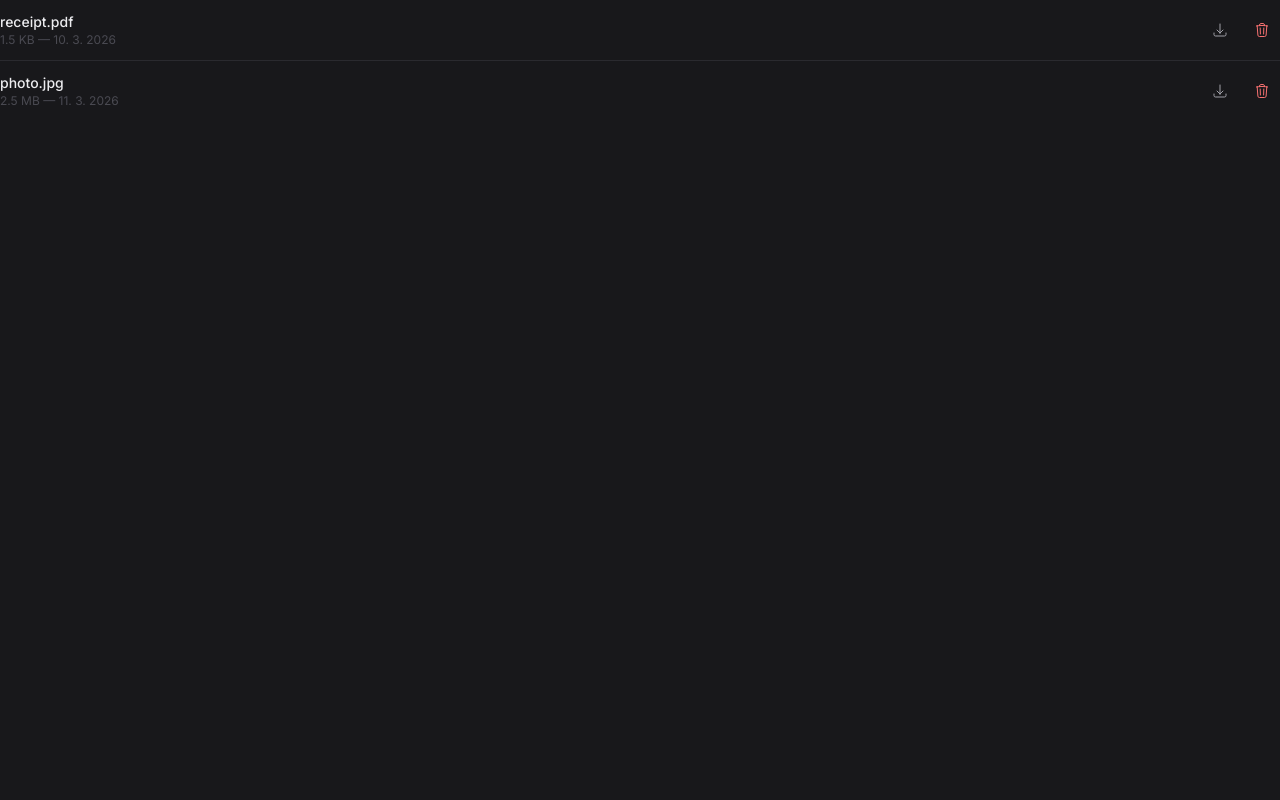
Scenario: DocumentList › cancel button dismisses confirmation dialog
Click the button titled "Smazat" in the row of "receipt.pdf" at (1262,30), box [1244,16,1279,44]
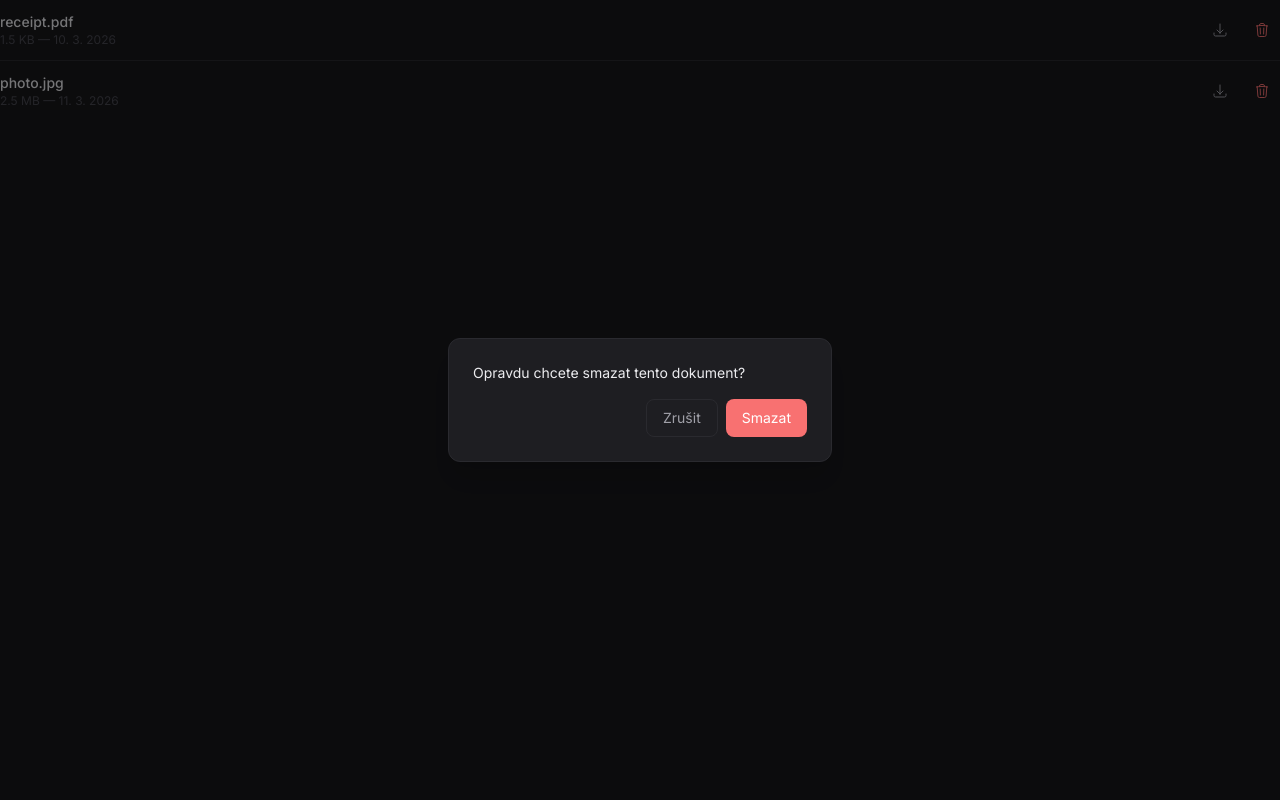
Check: the text "Opravdu chcete smazat tento dokument?" is shown, box [473,364,745,381]
Click the button "Zrušit" at (682,418), box [646,399,718,437]
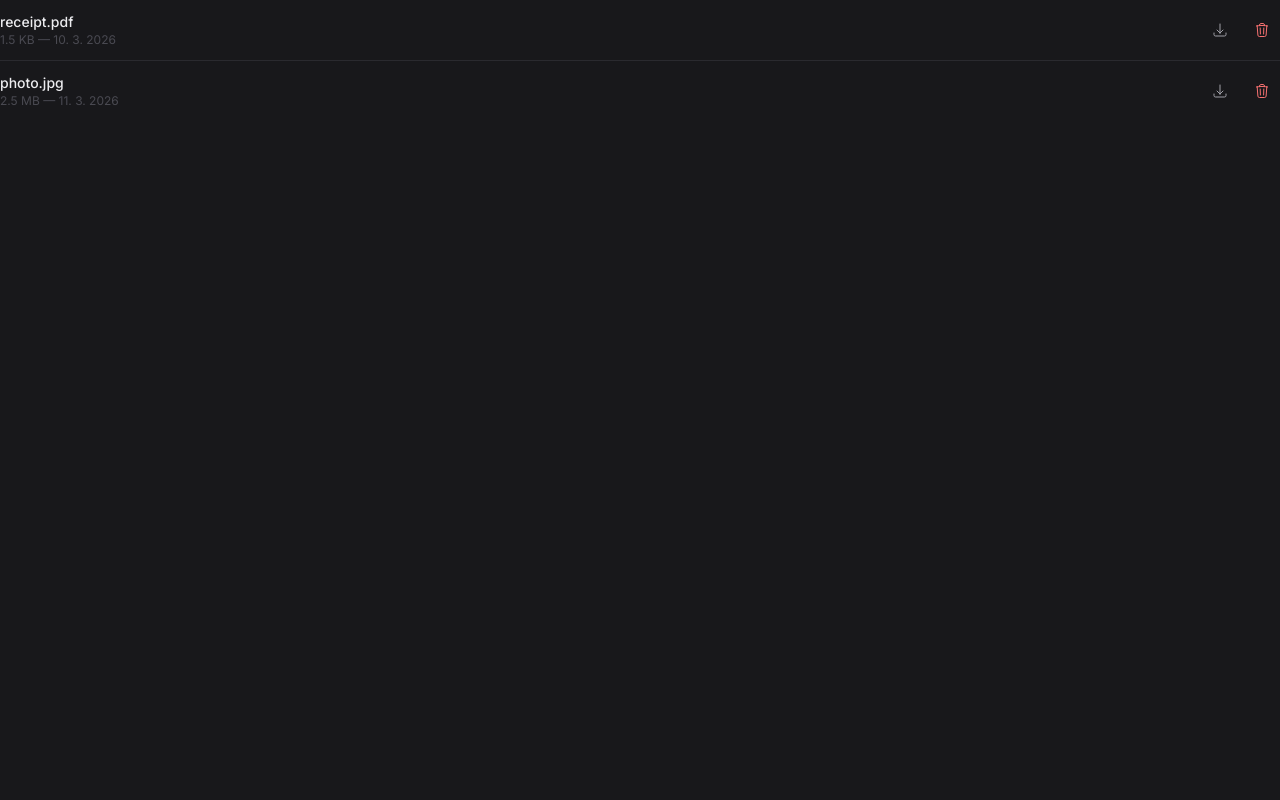
Check: the text "Opravdu chcete smazat tento dokument?" is gone
